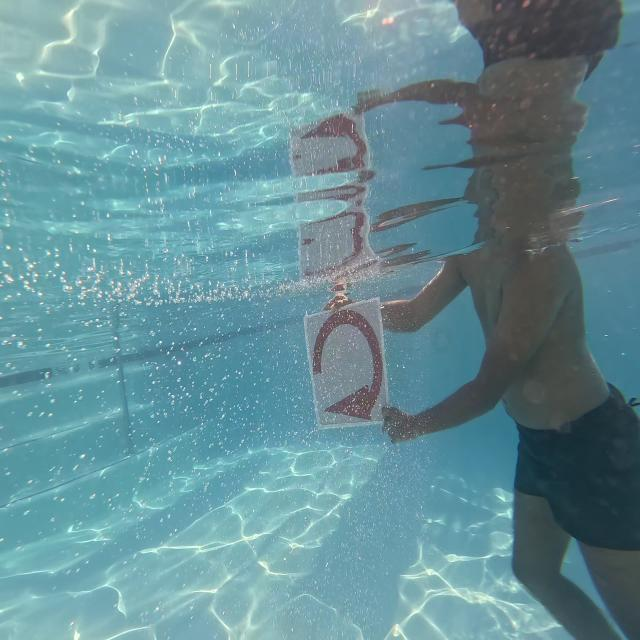red_side: (299, 304, 393, 429)
